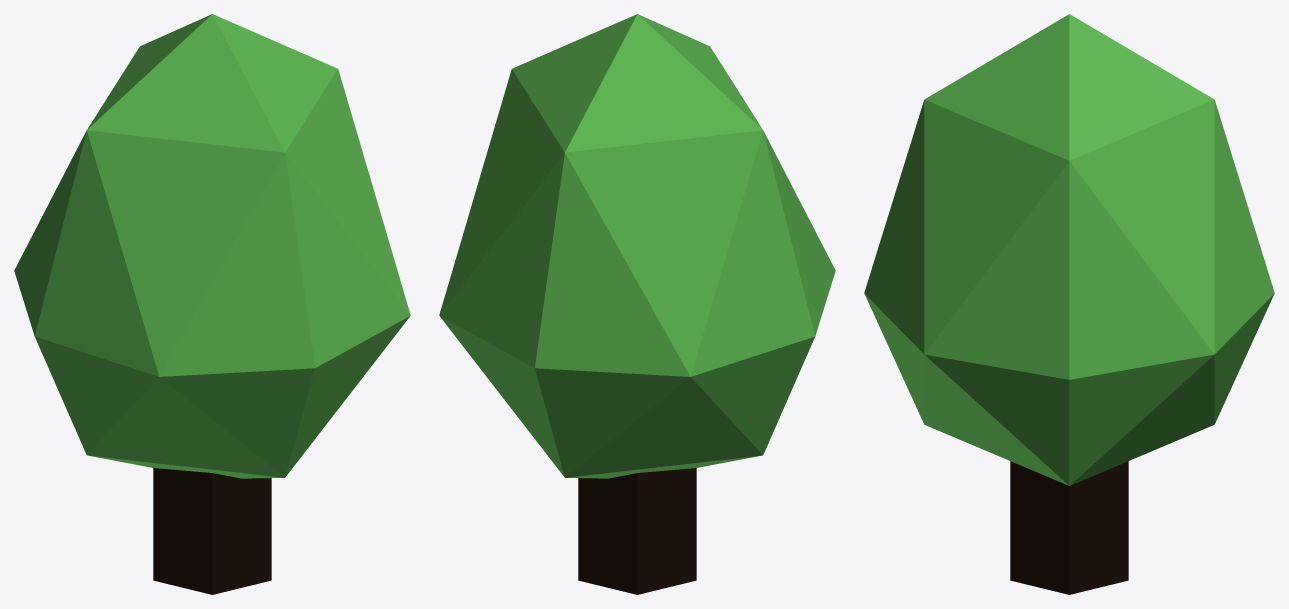
Rendered from Plants-Tree-Pointy-Small-Short.FBX.
3 views of the same model, side by side, from view 1: azimuth 30°, elevation 25°; view 2: azimuth 150°, elevation 25°; view 3: azimuth 270°, elevation 25° (orthographic).
Visible parts, largest first — view 1: Plants-Tree-Pointy-Small-Short; view 2: Plants-Tree-Pointy-Small-Short; view 3: Plants-Tree-Pointy-Small-Short.
Boxes of the visible parts, x1,y1,x2,y2 form: Plants-Tree-Pointy-Small-Short: [14, 14, 410, 594]; Plants-Tree-Pointy-Small-Short: [439, 14, 835, 594]; Plants-Tree-Pointy-Small-Short: [864, 14, 1274, 594].
Size of the model in its own units: 30 by 30 by 44.5.
